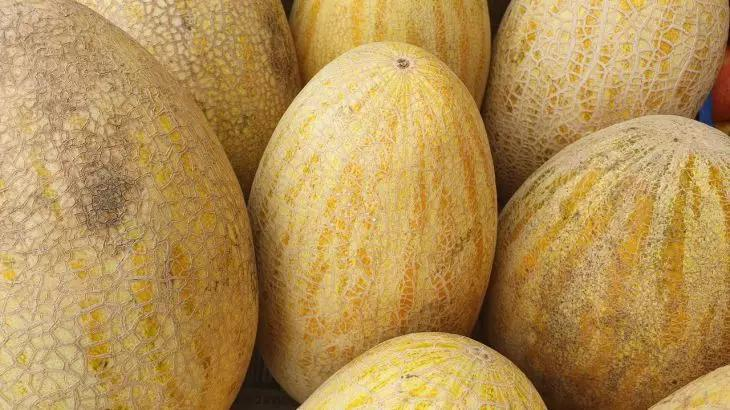melon: (1, 0, 728, 408), (246, 39, 499, 404), (482, 113, 729, 409), (483, 0, 729, 205), (73, 0, 301, 199), (288, 0, 491, 111), (295, 330, 548, 409)
